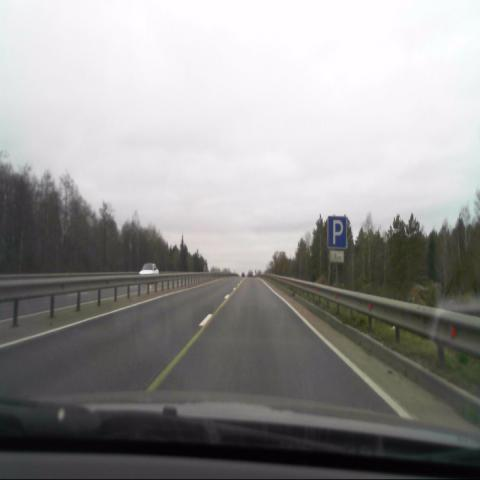6_4: (328, 215, 346, 249)
